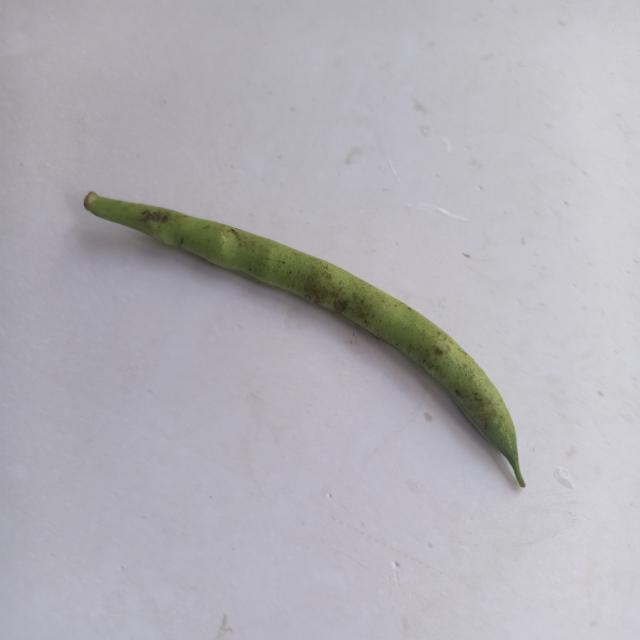Beans: (50, 156, 539, 509)
